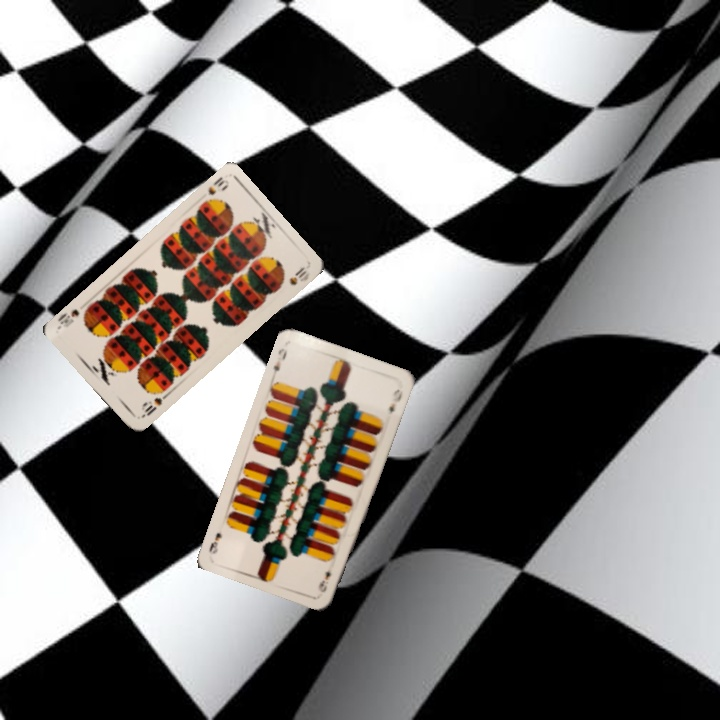E9: (269, 344, 290, 379), (315, 566, 334, 595)
S10: (199, 172, 232, 206), (137, 390, 170, 421)
